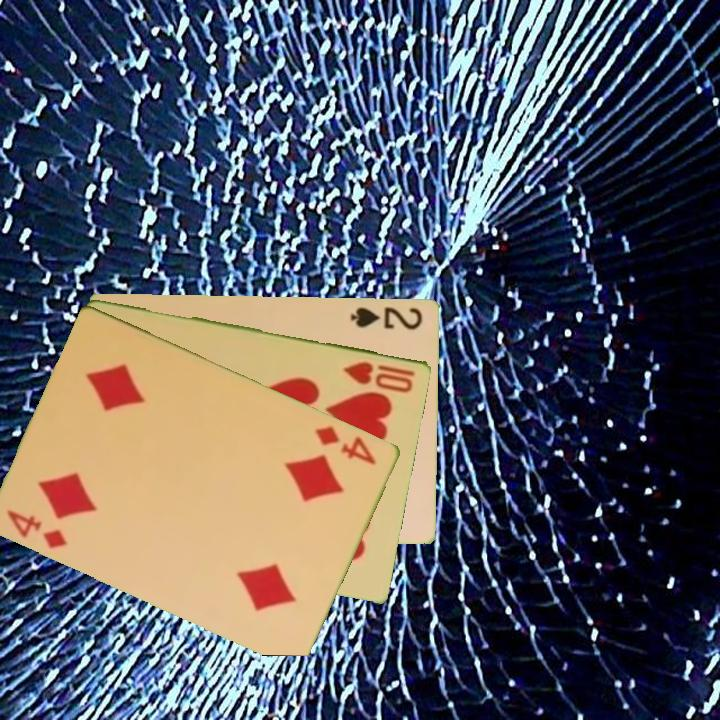10h: (341, 357, 419, 396)
2s: (347, 303, 426, 332)
4d: (4, 505, 71, 552), (312, 422, 380, 468)
